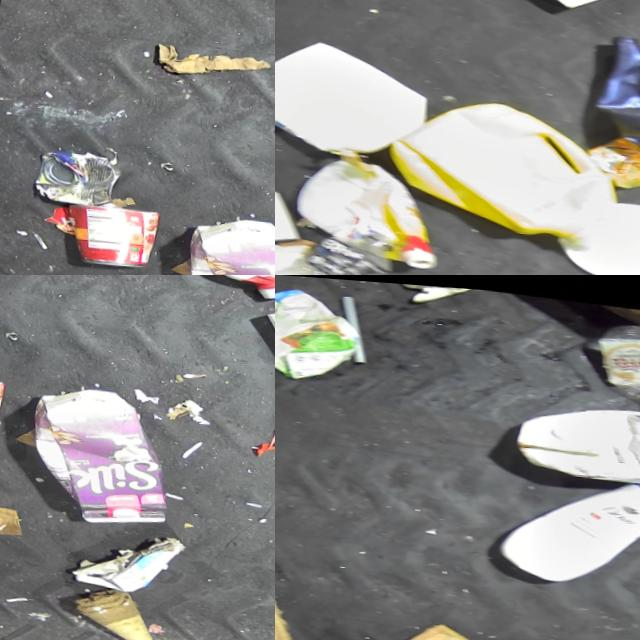can: (68, 197, 167, 270), (36, 144, 129, 208)
milk_jug: (511, 386, 640, 488)
non_white_jug: (384, 86, 630, 240), (180, 208, 275, 275)
plastic_bottle: (275, 216, 403, 275)
